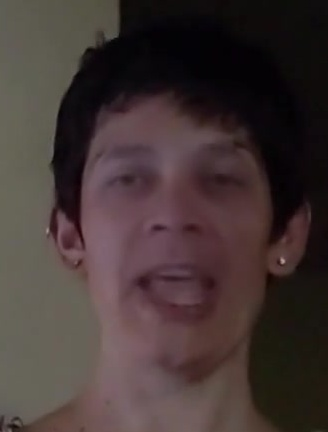eb_f: (86, 137, 264, 208)
